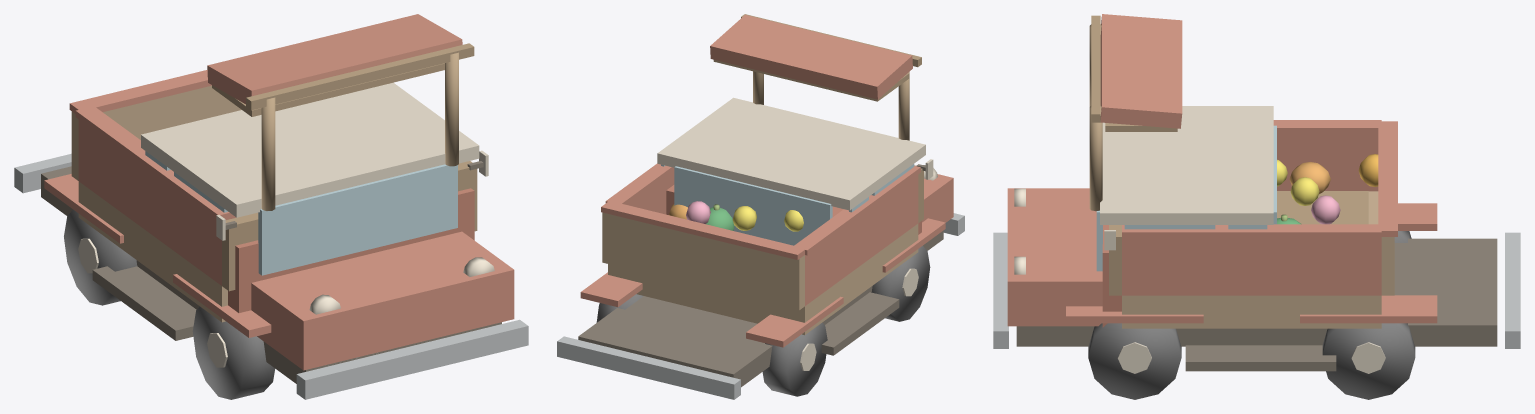
File: shop_truck_enter.fbx
The picture shows the model from 3 angles, left to right: view 1: azimuth 30°, elevation 25°; view 2: azimuth 150°, elevation 25°; view 3: azimuth 270°, elevation 25°; orthographic projection. The views are drawn at different scales.
Parts seen in each view (by area): view 1: Body_shop_truck, BedWalls_shop_truck, Awning_shop_truck, AwningPosts_shop_truck, Wheel_FL_shop_truck, BedTrunk_shop_truck, Wheel_RL_shop_truck; view 2: Body_shop_truck, BedWalls_shop_truck, Awning_shop_truck, BedTrunk_shop_truck, Wheel_RL_shop_truck, Wheel_FL_shop_truck, Fruits_shop_truck, AwningPosts_shop_truck, Wheel_RR_shop_truck; view 3: Body_shop_truck, BedWalls_shop_truck, BedTrunk_shop_truck, Awning_shop_truck, Wheel_FR_shop_truck, Wheel_RR_shop_truck, Fruits_shop_truck, AwningPosts_shop_truck.
Part boxes in pixels (box(x1,y1,x2,y2)): Body_shop_truck: box(14, 82, 528, 399); BedWalls_shop_truck: box(69, 70, 477, 291); Awning_shop_truck: box(207, 14, 462, 116); AwningPosts_shop_truck: box(246, 43, 474, 210); Wheel_FL_shop_truck: box(192, 306, 275, 399); BedTrunk_shop_truck: box(78, 181, 227, 322); Wheel_RL_shop_truck: box(64, 209, 137, 305); Body_shop_truck: box(557, 97, 964, 399); BedWalls_shop_truck: box(601, 163, 923, 310); Awning_shop_truck: box(710, 15, 912, 101); BedTrunk_shop_truck: box(608, 223, 918, 335); Wheel_RL_shop_truck: box(762, 322, 827, 396); Wheel_FL_shop_truck: box(871, 246, 930, 321); Fruits_shop_truck: box(669, 201, 803, 231); AwningPosts_shop_truck: box(741, 14, 921, 140); Wheel_RR_shop_truck: box(596, 294, 643, 322); Body_shop_truck: box(993, 106, 1520, 371); BedWalls_shop_truck: box(1109, 120, 1397, 295); BedTrunk_shop_truck: box(1122, 191, 1381, 328); Awning_shop_truck: box(1100, 14, 1182, 131); Wheel_FR_shop_truck: box(1088, 323, 1181, 399); Wheel_RR_shop_truck: box(1322, 323, 1415, 399); Fruits_shop_truck: box(1277, 154, 1378, 224); AwningPosts_shop_truck: box(1089, 15, 1102, 211).
Bounding box in the file's own units: 218 × 243 × 406.
